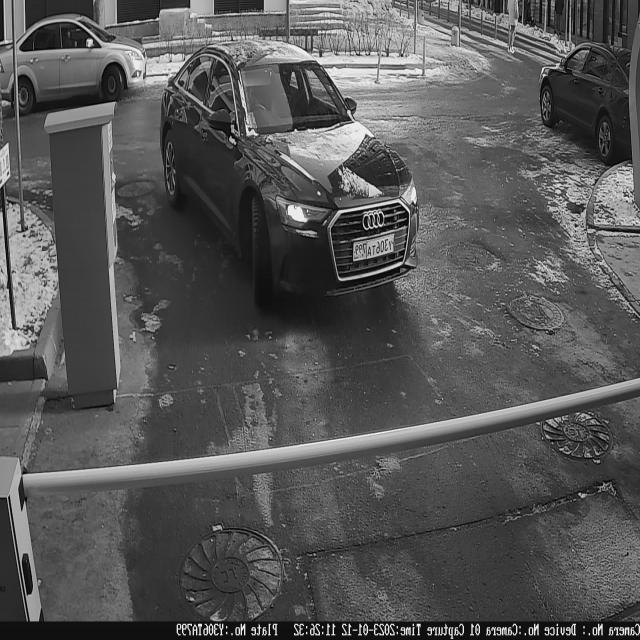car-plate-numbers: (350, 229, 402, 267)
